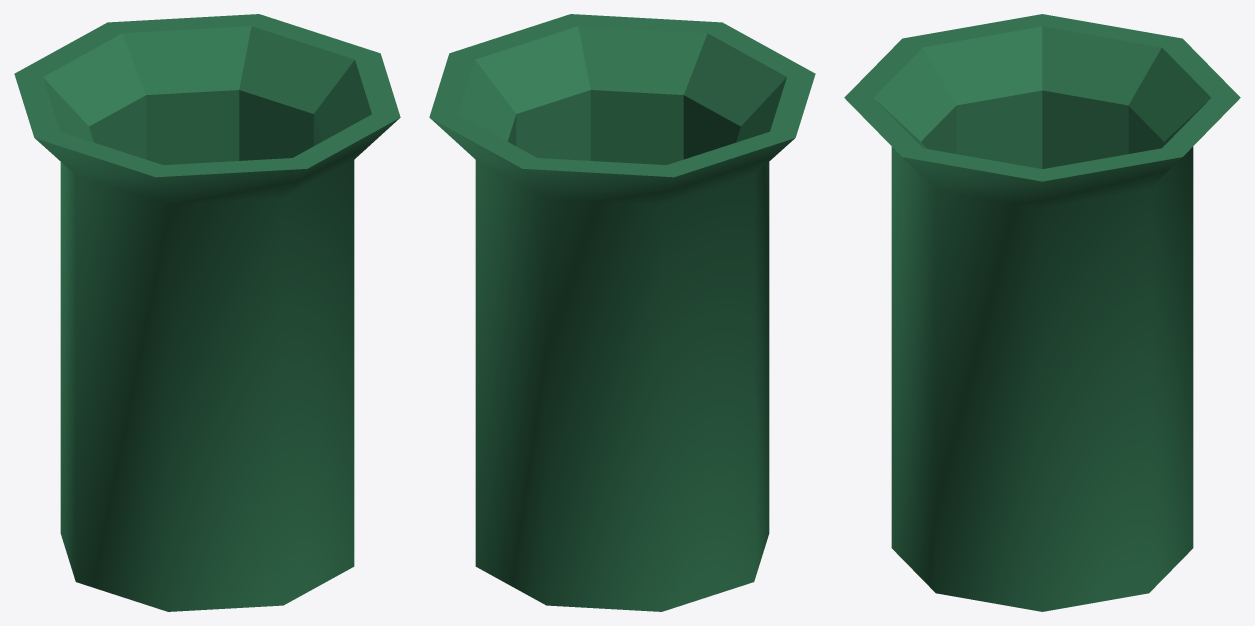
Rendered from binf.fbx.
The picture shows the model from 3 angles, left to right: view 1: azimuth 30°, elevation 25°; view 2: azimuth 150°, elevation 25°; view 3: azimuth 270°, elevation 25°; orthographic projection.
Visible parts, largest first — view 1: Cone001; view 2: Cone001; view 3: Cone001.
Part boxes in pixels (box(x1,y1,x2,y2)): Cone001: box(14, 14, 400, 611); Cone001: box(429, 14, 815, 611); Cone001: box(844, 14, 1240, 611).
Bounding box in the file's own units: 209 × 262 × 209.
